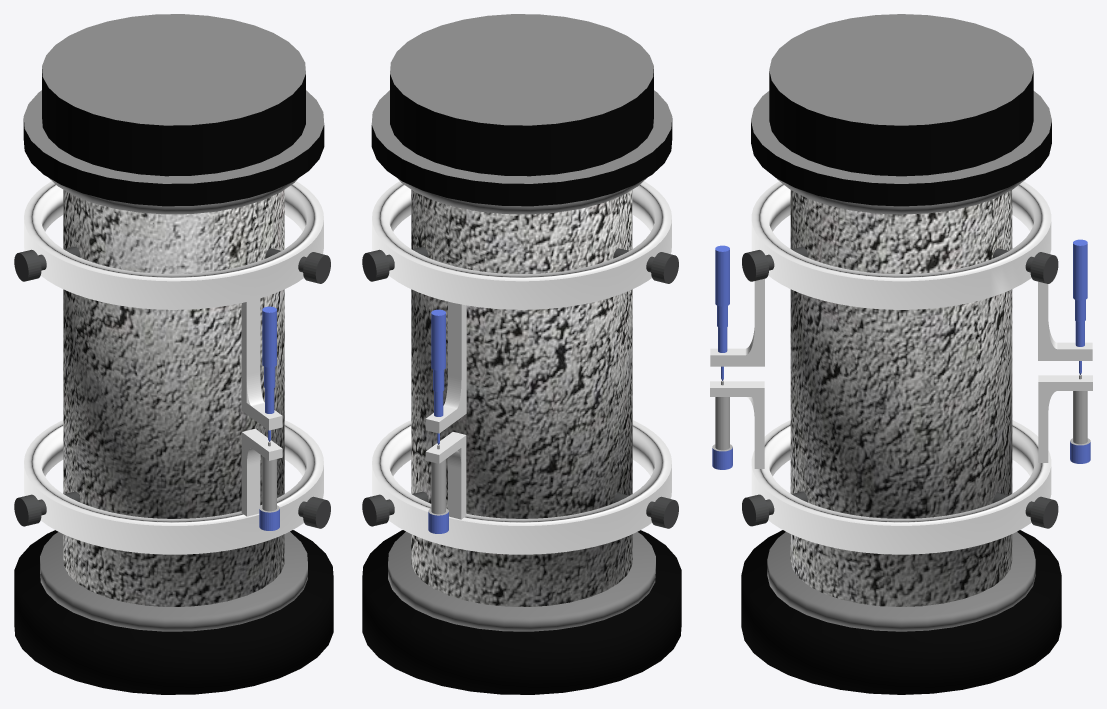
File: cilindro-normal.gltf
3 views of the same model, side by side, from view 1: azimuth 30°, elevation 25°; view 2: azimuth 150°, elevation 25°; view 3: azimuth 270°, elevation 25° (orthographic).
Visible parts, largest first — view 1: cilindroConcreto, apoyo_sup, compresometro, apoyo_inf, espuma_inf, espuma_sup; view 2: cilindroConcreto, apoyo_sup, compresometro, apoyo_inf, espuma_inf, espuma_sup; view 3: cilindroConcreto, apoyo_sup, compresometro, apoyo_inf, espuma_inf, espuma_sup.
Boxes of the visible parts, box(x1,y1,x2,y2) form: cilindroConcreto: box(63, 190, 284, 606); apoyo_sup: box(23, 14, 324, 206); compresometro: box(14, 181, 330, 554); apoyo_inf: box(14, 530, 333, 694); espuma_inf: box(40, 531, 307, 631); espuma_sup: box(49, 178, 298, 214); cilindroConcreto: box(411, 190, 632, 606); apoyo_sup: box(371, 14, 672, 206); compresometro: box(362, 181, 678, 554); apoyo_inf: box(362, 530, 681, 694); espuma_inf: box(388, 531, 655, 631); espuma_sup: box(397, 178, 646, 214); cilindroConcreto: box(790, 190, 1012, 606); apoyo_sup: box(751, 14, 1051, 206); compresometro: box(710, 181, 1092, 554); apoyo_inf: box(741, 530, 1061, 694); espuma_inf: box(767, 532, 1035, 631); espuma_sup: box(777, 178, 1025, 214).
Bounding box in the file's own units: 0.2263 × 0.4159 × 0.2589.
8 materials, 1 textured.
